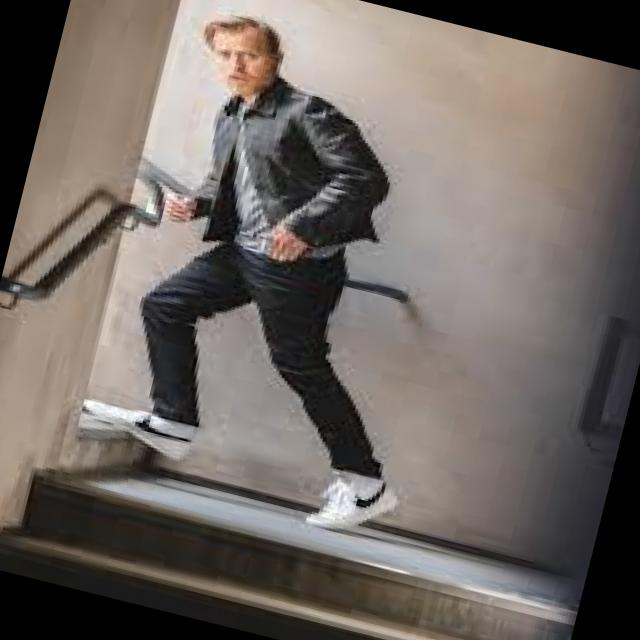Jacket: (148, 53, 432, 306)
